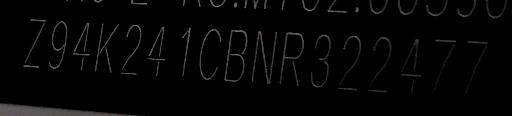letter: (462, 36, 492, 99), (428, 35, 458, 96), (365, 35, 393, 95), (336, 33, 364, 92), (397, 34, 423, 97), (278, 30, 306, 88), (222, 27, 250, 84), (92, 18, 120, 74), (250, 29, 278, 85), (196, 26, 222, 81), (21, 15, 47, 69), (309, 32, 333, 90), (120, 23, 142, 78), (146, 23, 168, 77), (70, 20, 92, 73), (46, 19, 68, 71), (178, 24, 194, 79)
